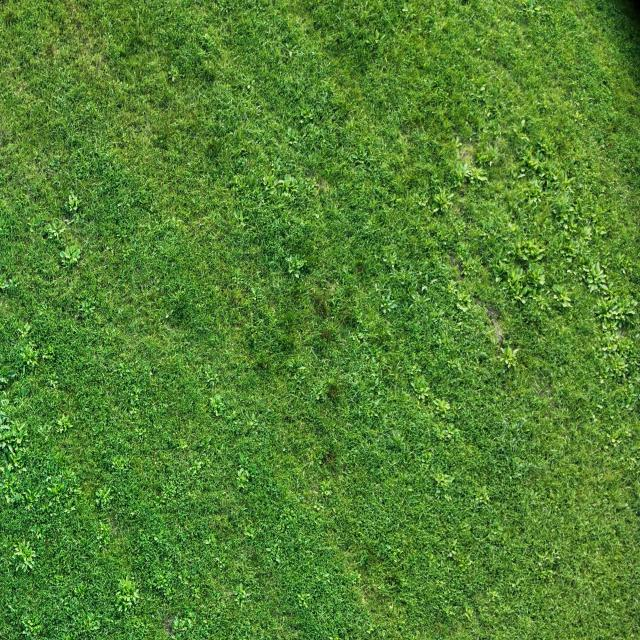rumex: (205, 253, 293, 356), (290, 330, 363, 412), (252, 151, 308, 210), (422, 396, 467, 455), (517, 126, 565, 181), (461, 76, 500, 142), (156, 467, 201, 513), (338, 114, 373, 158), (3, 417, 30, 464), (565, 234, 598, 272), (446, 278, 477, 316), (548, 167, 576, 207), (231, 454, 261, 490), (458, 257, 486, 292), (502, 265, 530, 299), (149, 564, 176, 597), (550, 190, 577, 223), (511, 232, 540, 262), (12, 538, 36, 573), (581, 261, 608, 290), (521, 177, 547, 205), (524, 262, 548, 291), (602, 352, 627, 379), (550, 284, 574, 312), (493, 258, 518, 284), (45, 473, 69, 500), (124, 386, 144, 418), (514, 124, 534, 156), (19, 610, 43, 636), (77, 297, 101, 322), (431, 188, 454, 214), (184, 457, 208, 481), (602, 302, 630, 322), (432, 470, 456, 493), (59, 242, 82, 266), (378, 290, 400, 315), (498, 344, 520, 369), (452, 159, 472, 186), (466, 164, 490, 186), (473, 485, 495, 508), (94, 484, 113, 510), (96, 522, 112, 552), (518, 145, 538, 168), (231, 583, 251, 606), (55, 412, 74, 435), (208, 392, 226, 416), (197, 63, 216, 84), (64, 190, 81, 213), (211, 548, 228, 570), (16, 320, 33, 340), (298, 106, 314, 126), (522, 1, 540, 18), (296, 590, 312, 609), (286, 254, 302, 273), (434, 398, 452, 414), (0, 396, 13, 418), (0, 277, 19, 292), (352, 328, 368, 344), (578, 224, 594, 240), (44, 224, 61, 239), (15, 192, 30, 208), (168, 65, 180, 83), (261, 173, 274, 188), (242, 525, 255, 540), (234, 208, 245, 225), (464, 604, 475, 621), (237, 467, 250, 481), (0, 422, 13, 436), (247, 416, 259, 430), (320, 485, 332, 498), (422, 450, 434, 463), (120, 594, 132, 607), (611, 318, 623, 331), (438, 330, 448, 345), (273, 156, 282, 172), (26, 356, 38, 368), (30, 216, 42, 228), (2, 371, 18, 380), (286, 125, 296, 139), (172, 615, 179, 633), (233, 267, 242, 279), (454, 138, 463, 150), (417, 392, 427, 402), (610, 436, 619, 446), (448, 549, 457, 559), (234, 175, 242, 186), (60, 250, 68, 260), (373, 28, 379, 41), (233, 587, 241, 596), (421, 284, 428, 294), (521, 0, 529, 8), (274, 555, 281, 564), (401, 6, 410, 13), (520, 118, 526, 128), (602, 321, 608, 331), (246, 83, 253, 91), (431, 207, 439, 214), (317, 114, 324, 122), (479, 85, 486, 92), (168, 74, 174, 82), (288, 50, 293, 58), (310, 50, 316, 56), (476, 46, 482, 52), (165, 314, 170, 320)
